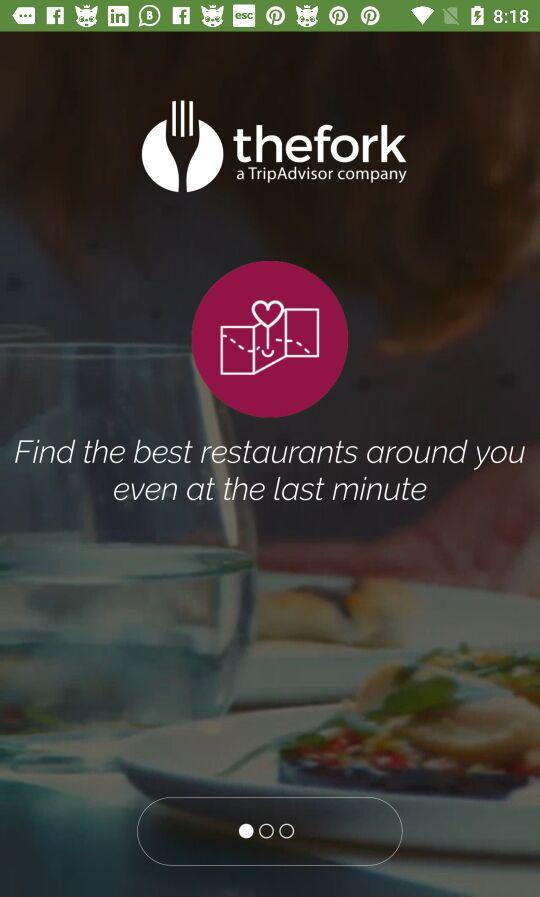BackgroundImage: (1, 33, 540, 897)
Image: (141, 99, 407, 194), (191, 262, 348, 417)
PageIndicator: (238, 822, 296, 840)
Text: (15, 439, 527, 505)
UpperTaskBar: (1, 1, 540, 33)
